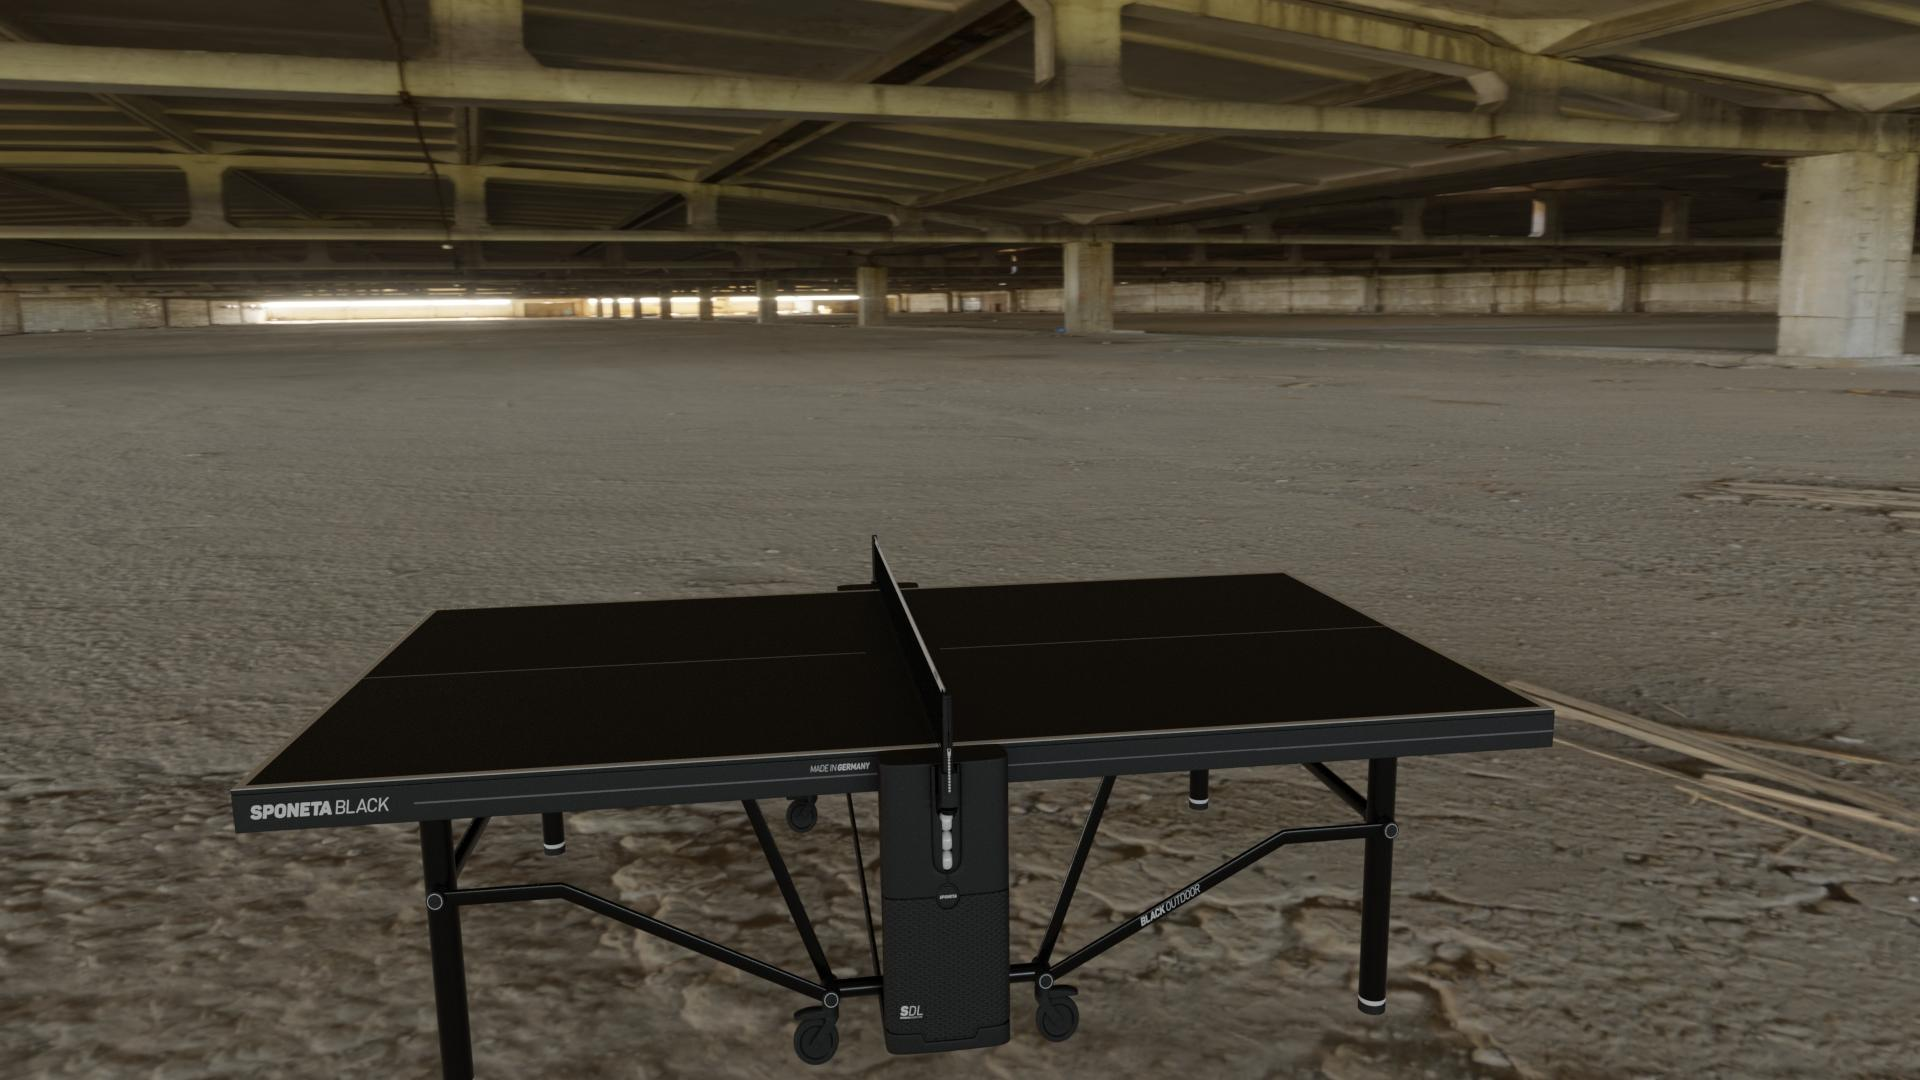table: (245, 572, 1542, 786)
